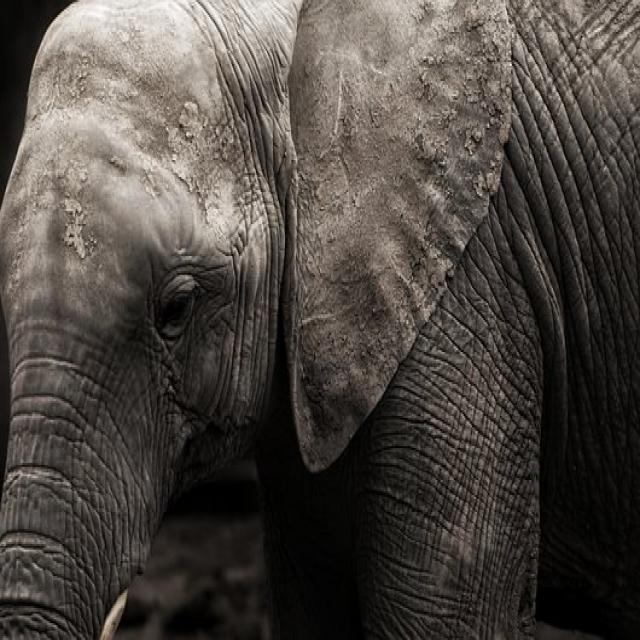Elephant: (9, 26, 593, 598)
